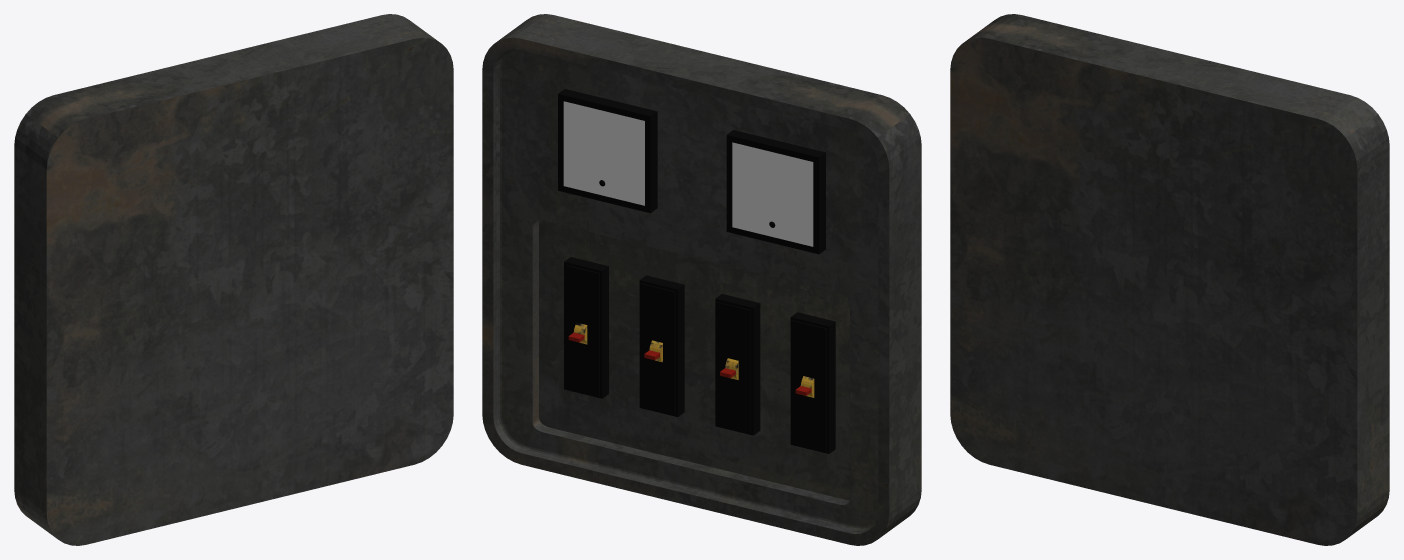
The model's file is modular_industrial_electrical_switchboard.glb.
The picture shows the model from 3 angles, left to right: view 1: azimuth 30°, elevation 25°; view 2: azimuth 150°, elevation 25°; view 3: azimuth 330°, elevation 25°; orthographic projection.
Parts seen in each view (by area): view 1: Boody.002; view 2: Boody.002; view 3: Boody.002.
Boxes of the visible parts, x1=… form: Boody.002: x1=14, y1=14, x2=453, y2=545; Boody.002: x1=482, y1=14, x2=921, y2=545; Boody.002: x1=950, y1=14, x2=1389, y2=545.
Bounding box in the file's own units: 2 × 2 × 0.3069.
Materials: 6 (4 with a texture image).
